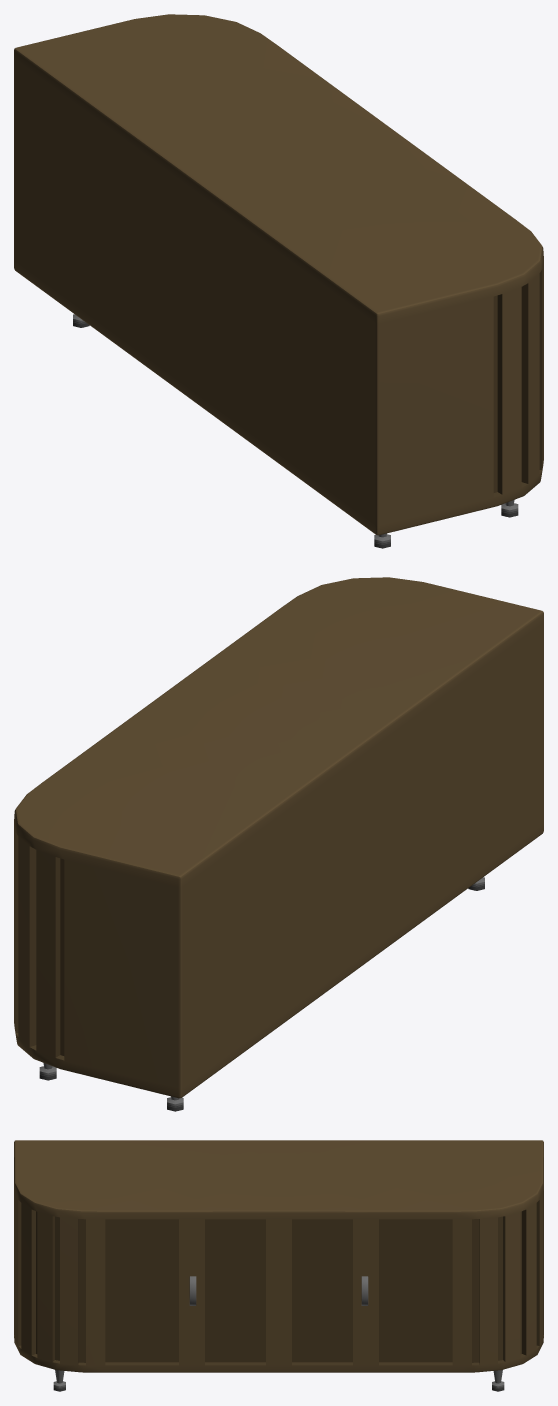
File: TV_Stand.fbx
3 renders of one model, top to bottom at view 1: azimuth 30°, elevation 25°; view 2: azimuth 150°, elevation 25°; view 3: azimuth 270°, elevation 25°, orthographic. The views are drawn at different scales.
Visible parts, largest first — view 1: TV_Stand_Body, TV_Stand_Feet; view 2: TV_Stand_Body, TV_Stand_Feet; view 3: TV_Stand_Body, TV_Stand_Feet.
Boxes of the visible parts, box(x1,y1,x2,y2) form: TV_Stand_Body: box(14, 14, 543, 535); TV_Stand_Feet: box(73, 314, 518, 548); TV_Stand_Body: box(14, 577, 543, 1098); TV_Stand_Feet: box(39, 877, 484, 1111); TV_Stand_Body: box(14, 1140, 543, 1372); TV_Stand_Feet: box(53, 1370, 504, 1391).
Size of the model in its own units: 50.44 by 58.78 by 148.
